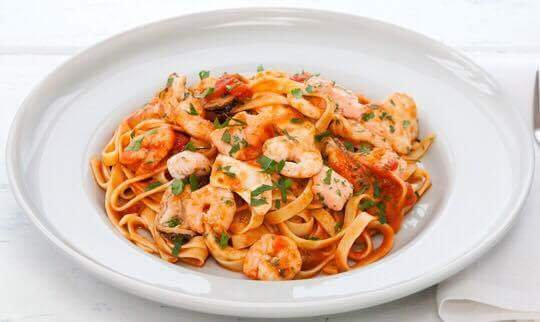sushi: (14, 7, 535, 314)
